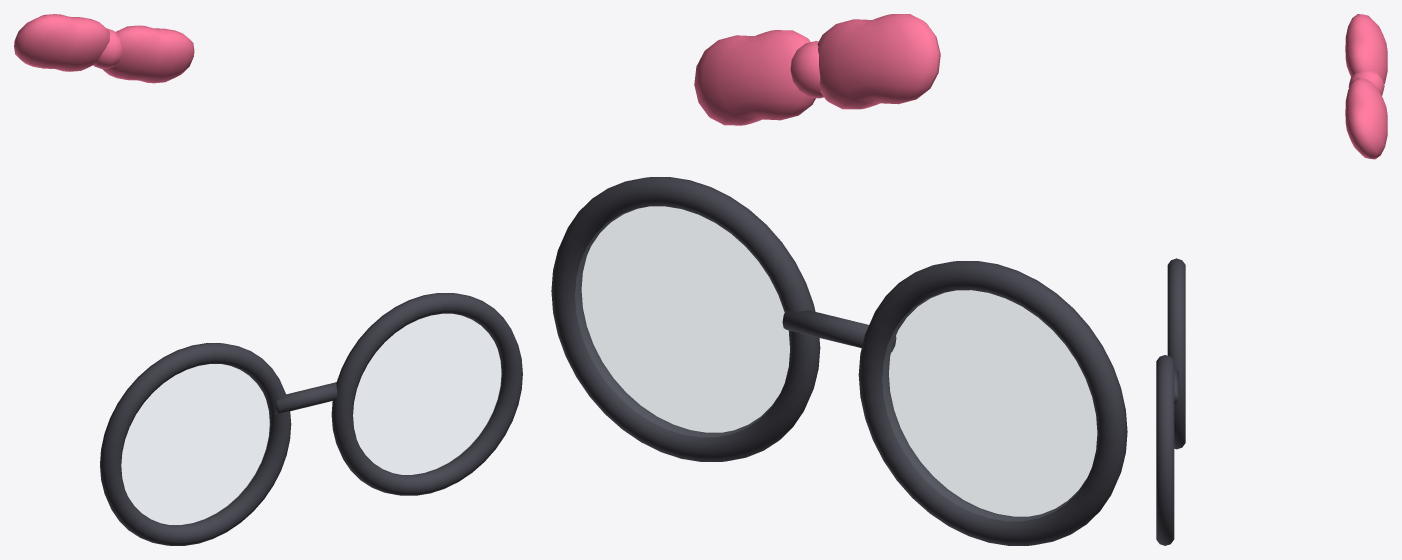
Rendered from pinguino_extras.glb.
3 views of the same model, side by side, from view 1: azimuth 30°, elevation 25°; view 2: azimuth 150°, elevation 25°; view 3: azimuth 270°, elevation 25° (orthographic). The views are drawn at different scales.
Parts seen in each view (by area): view 1: acc_lentes_cristal, acc_lentes, acc_mono; view 2: acc_lentes_cristal, acc_lentes, acc_mono; view 3: acc_lentes, acc_mono.
Boxes of the visible parts, <box> form: acc_lentes_cristal: <box>121,314,501,524</box>; acc_lentes: <box>100,293,522,545</box>; acc_mono: <box>14,14,194,83</box>; acc_lentes_cristal: <box>575,206,1096,520</box>; acc_lentes: <box>551,177,1127,545</box>; acc_mono: <box>694,14,940,125</box>; acc_lentes: <box>1156,258,1185,545</box>; acc_mono: <box>1345,14,1387,159</box>.
Size of the model in its own units: 0.4483 by 0.4777 by 0.2474.
